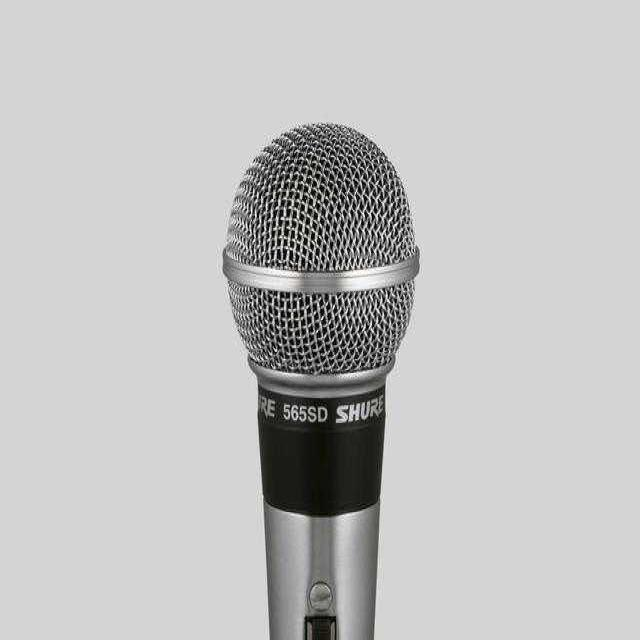microphone: (224, 121, 416, 634)
